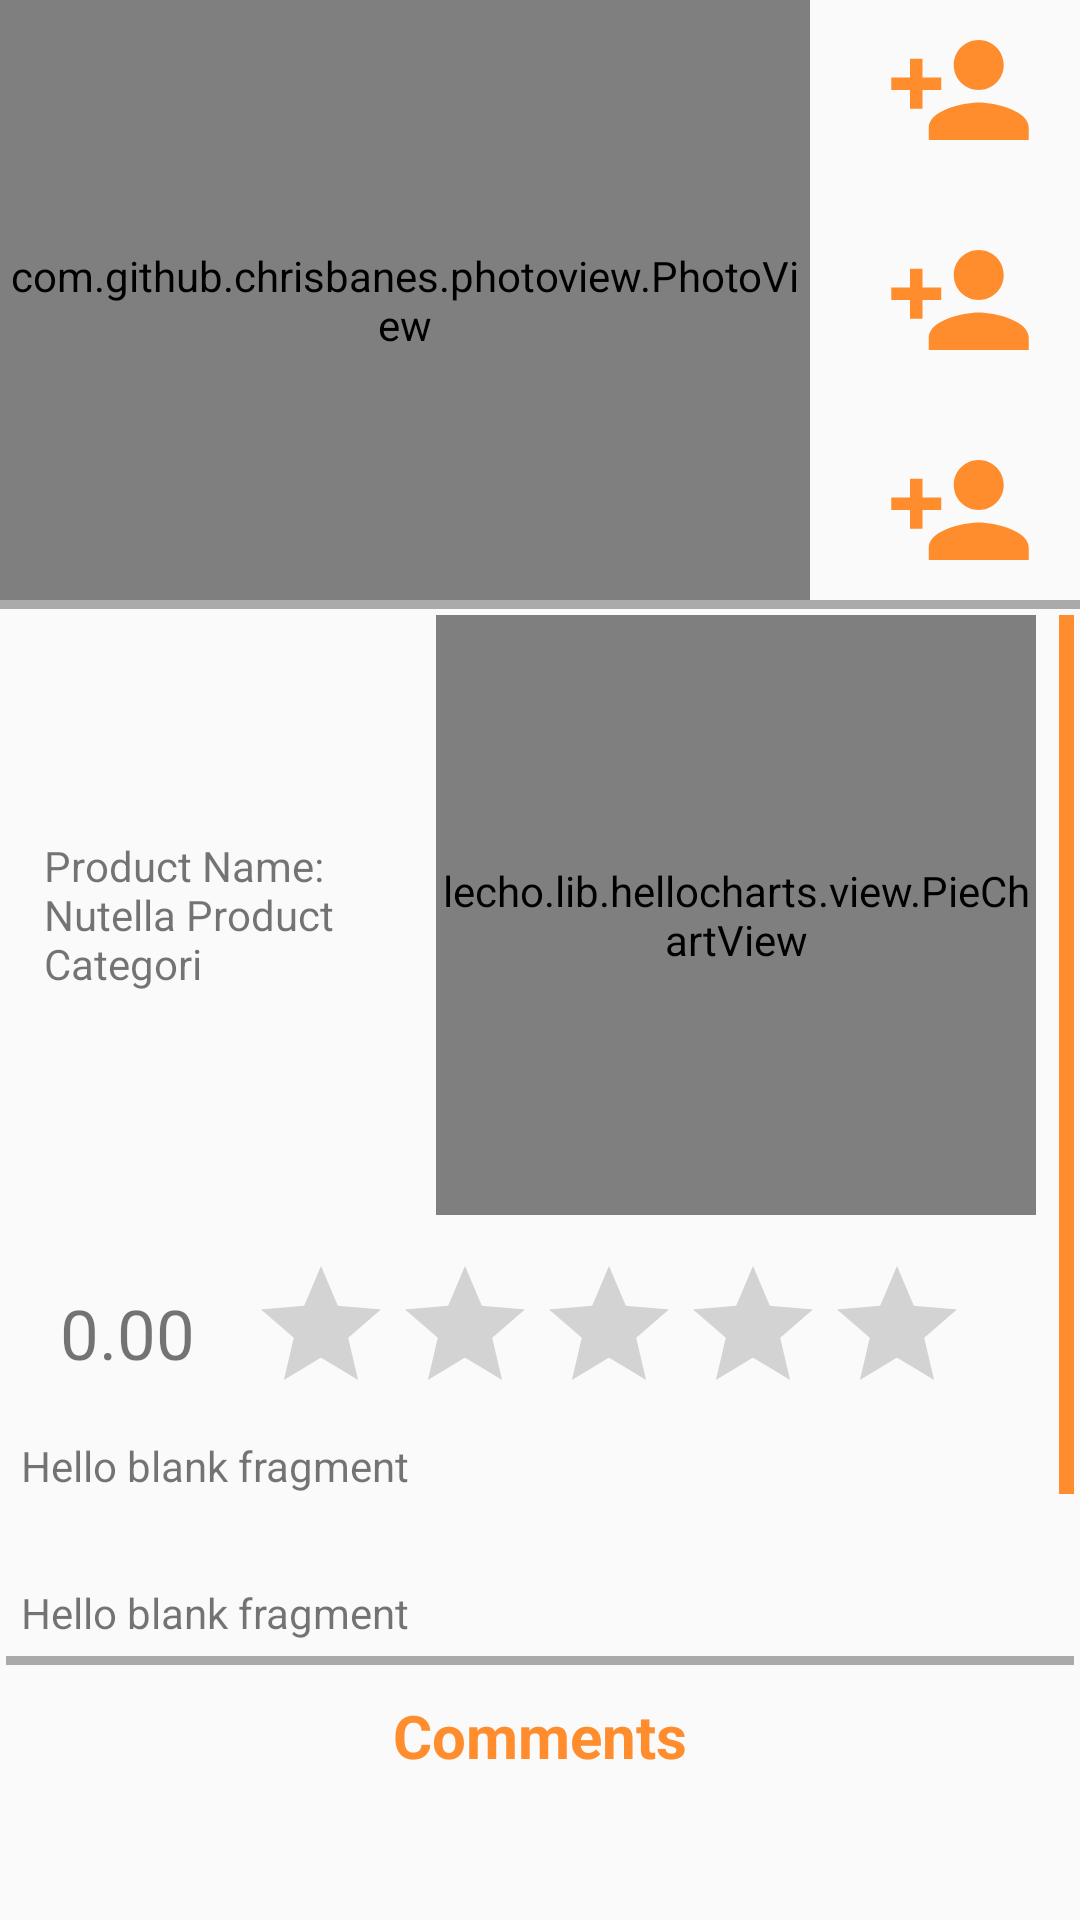

Named icons in this screenshot (1080*1920) and their bounding boxes, (x1, y1, x2, y2):
add: (891, 40, 1029, 140), (891, 250, 1029, 350), (891, 460, 1029, 560)
